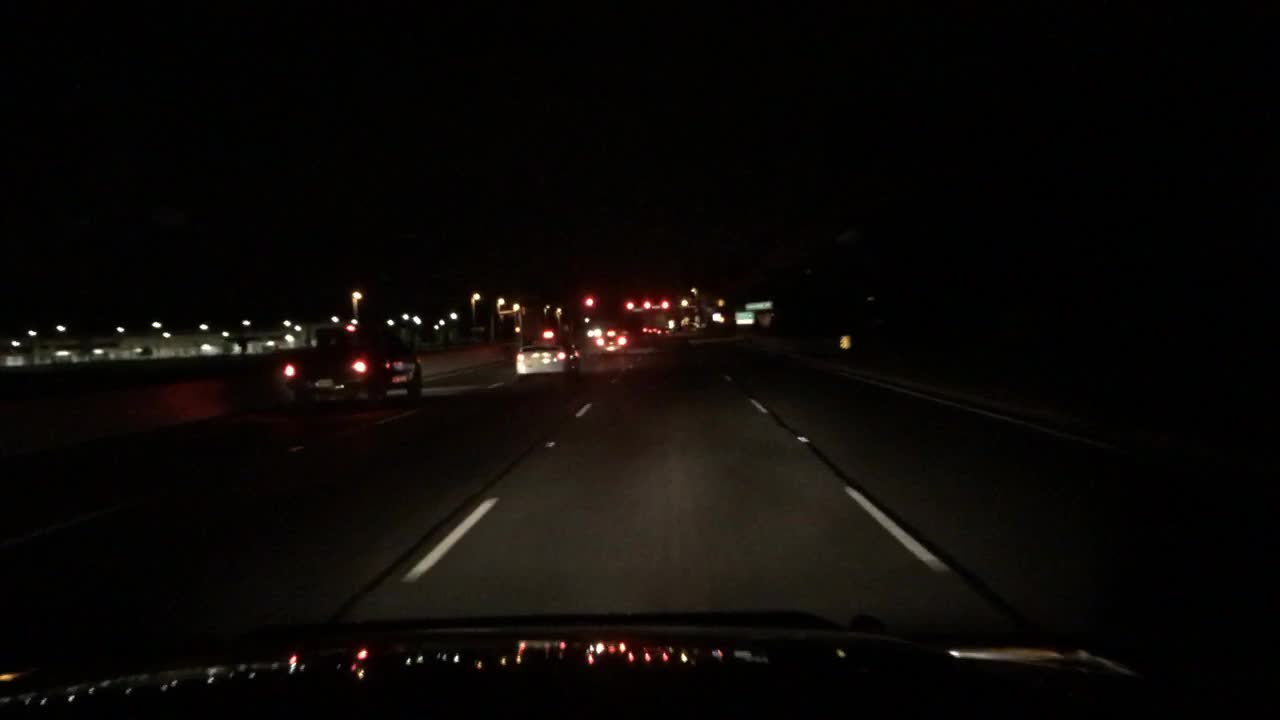car: (278, 324, 424, 406), (513, 336, 580, 379), (595, 329, 630, 354), (643, 323, 665, 335), (585, 325, 603, 339), (681, 320, 698, 332)
traffic sign: (743, 300, 772, 311), (734, 311, 754, 325)
